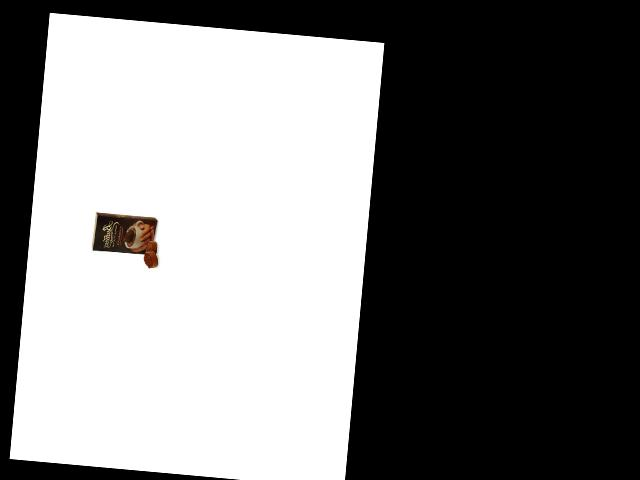chocolate: (89, 209, 159, 261)
